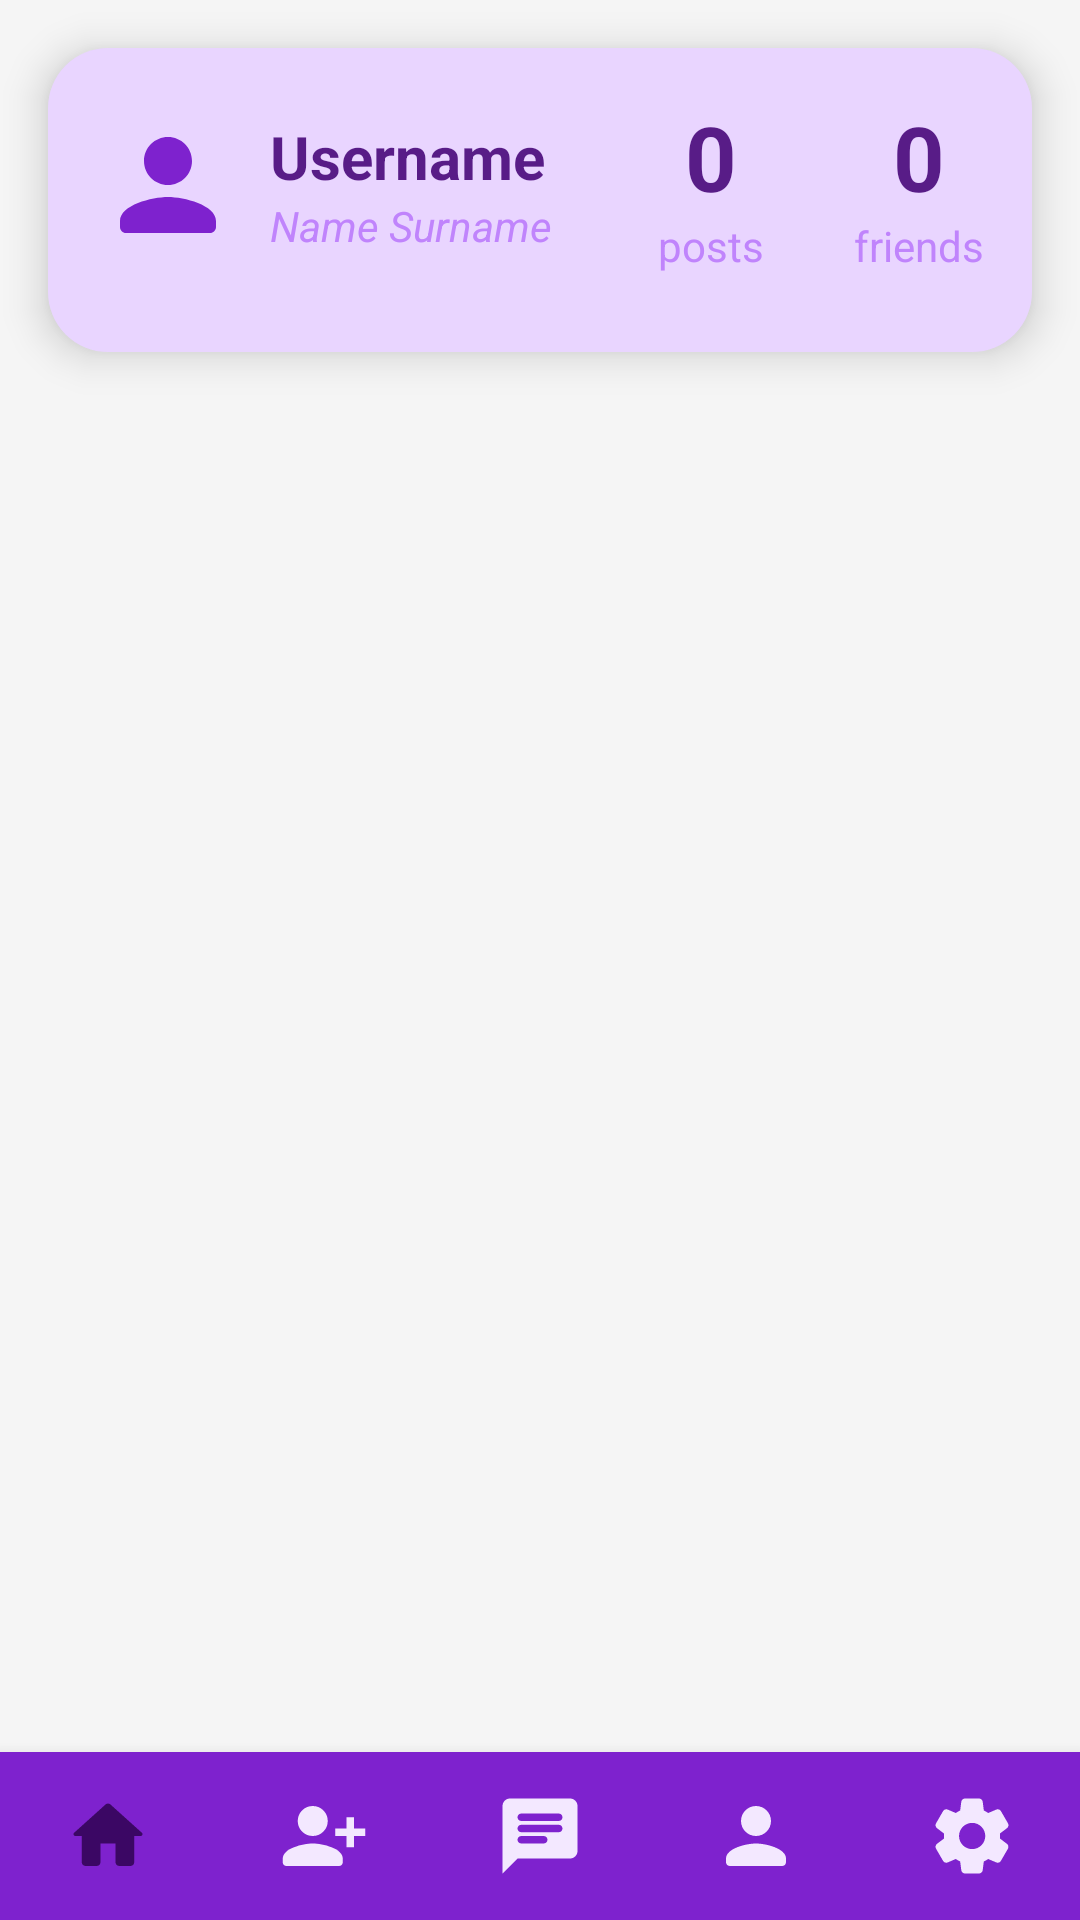

Icon click points for this 1080px x 1920px phone screenshot, format (x,y):
Profile image: (168,185)
